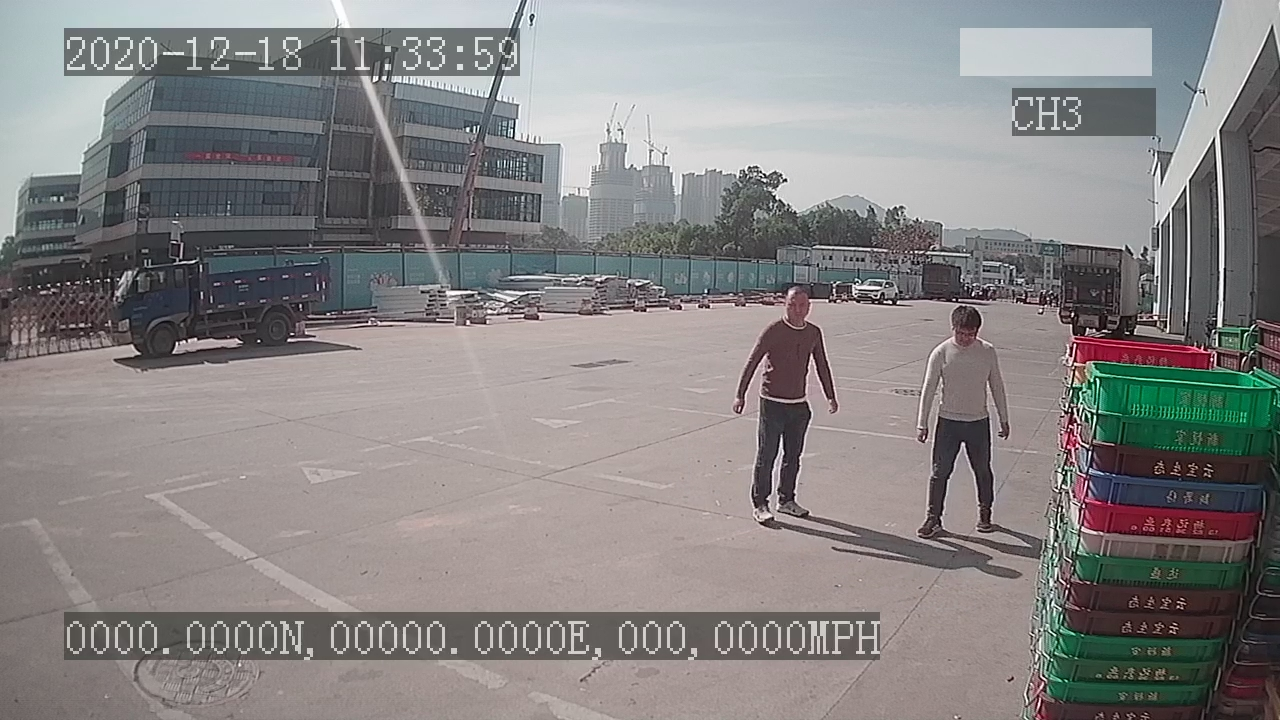person: (732, 285, 841, 527), (911, 304, 1013, 540)
